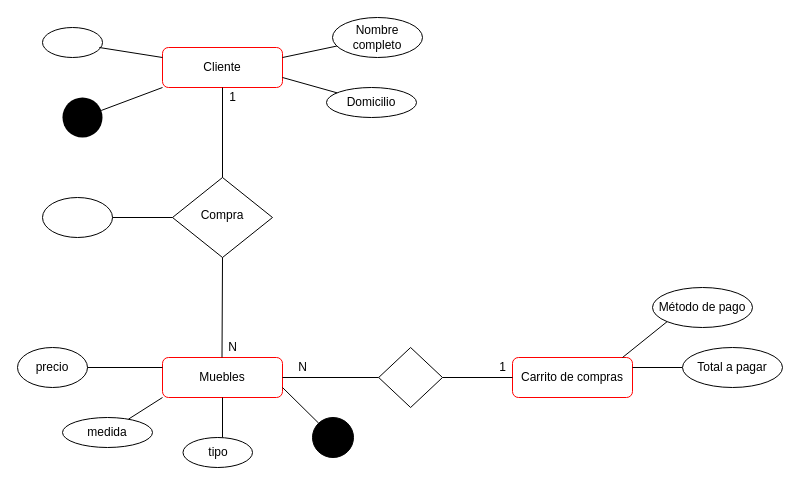
This 800x485 diagram has some shape labels left out. Each missing label, with the centre of its shape:
CI: (82,117)
Entran en: (410,377)
Fecha de compra: (77,217)
i "id": (333,437)
Teléfono: (72,42)
